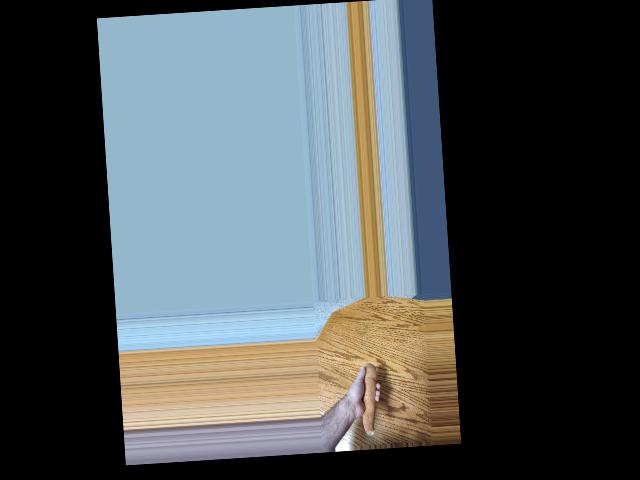sweet_potato: (353, 362, 382, 438)
